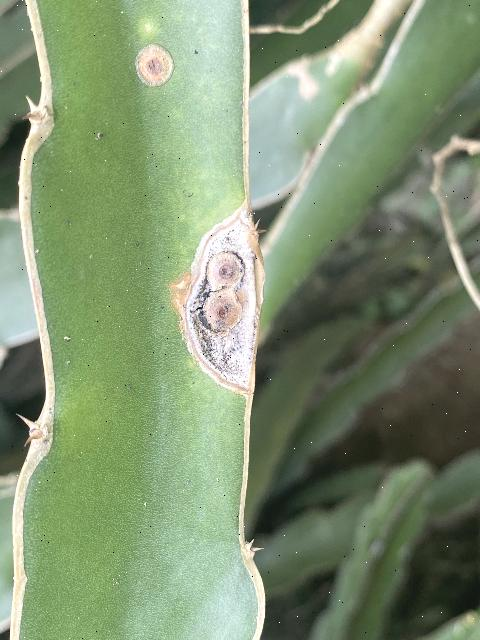stemcanker: (172, 206, 264, 400), (127, 40, 176, 91)
